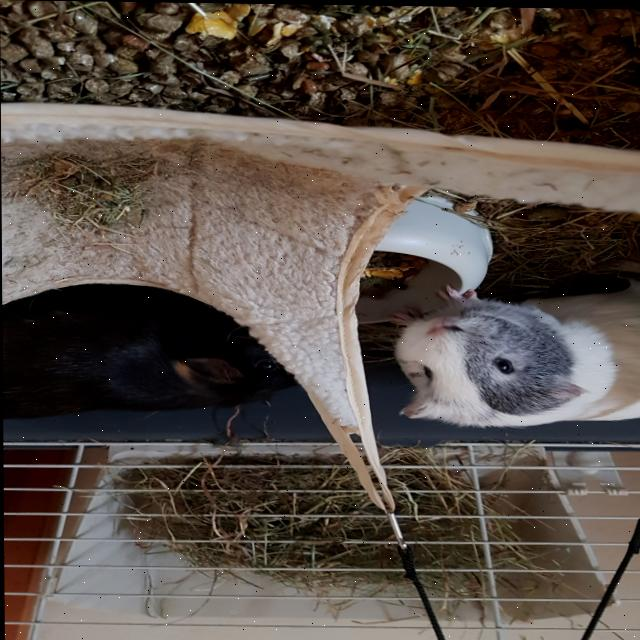guinea pig: (2, 282, 302, 425), (393, 257, 640, 429)
